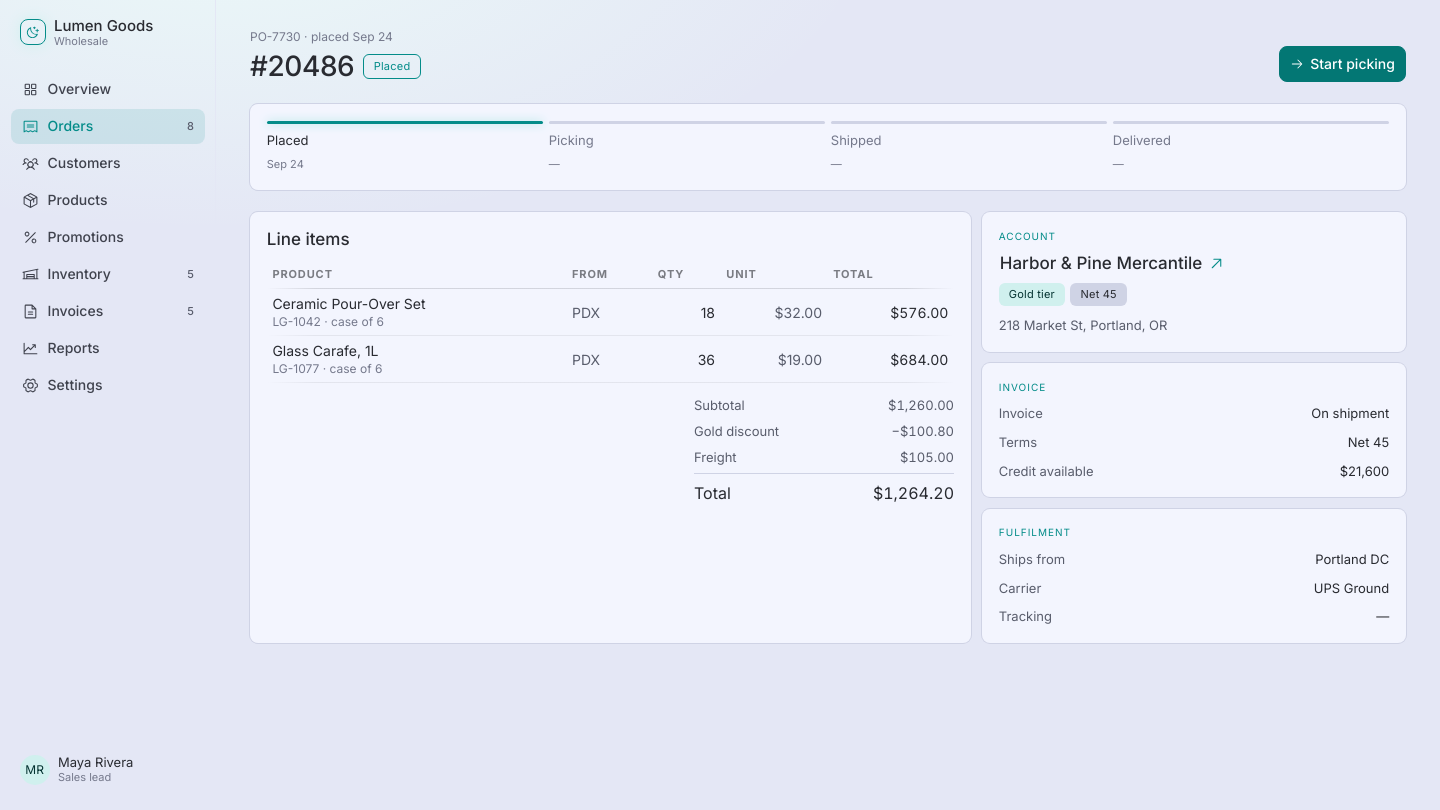
Test: navigation › advances an order to its next status
The image size is (1440, 810).
Click the button "Start picking": (1343, 64) [1279,46,1406,82]
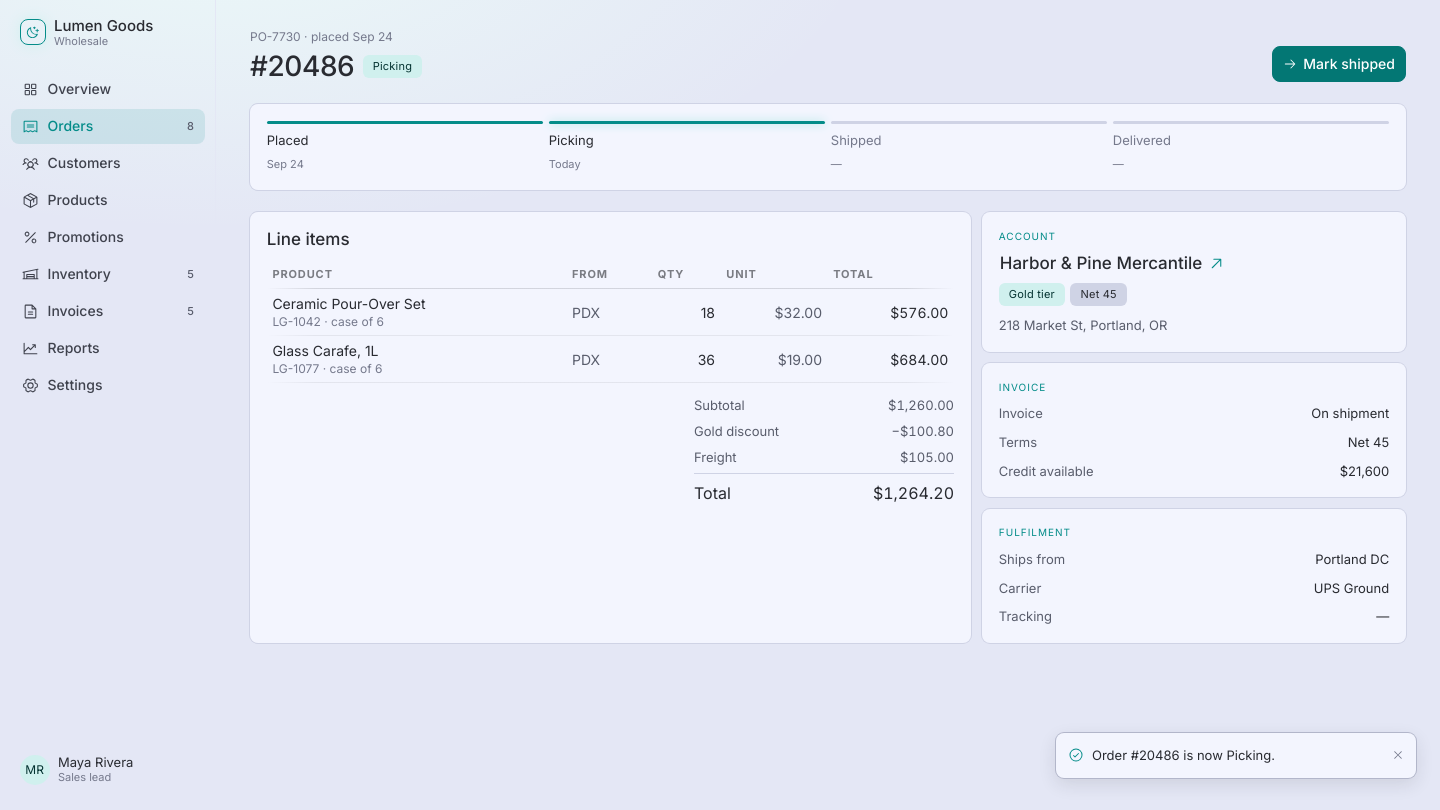
Result: the button "Mark shipped" is shown at [1272,46,1406,82]
